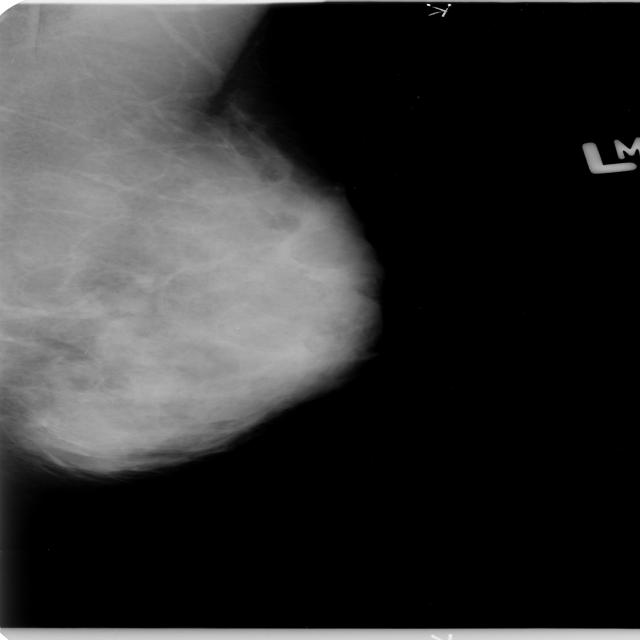normal: (0, 0, 376, 500)
